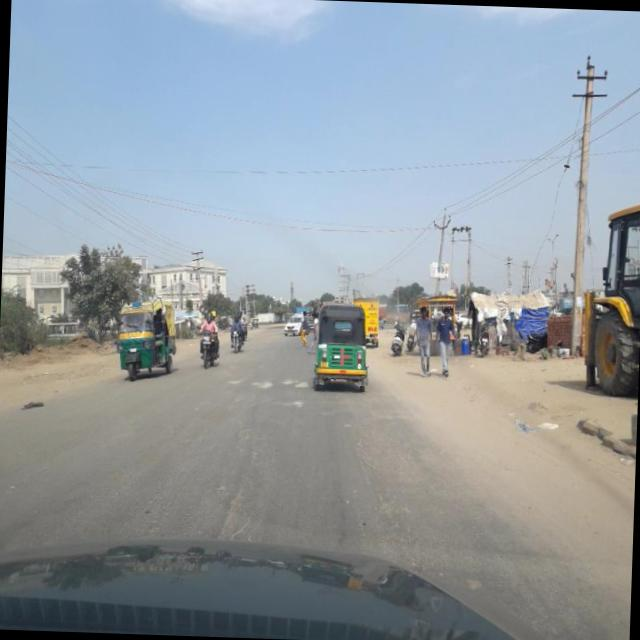pothole: (349, 436, 432, 558), (218, 422, 270, 540)
